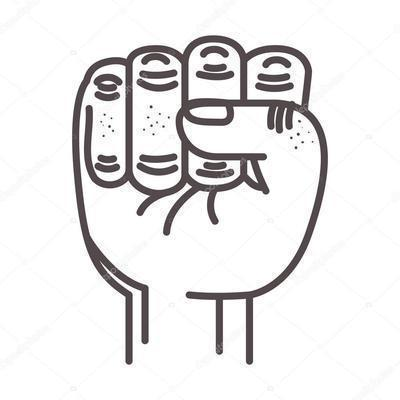closedhandfront: (49, 28, 334, 295)
